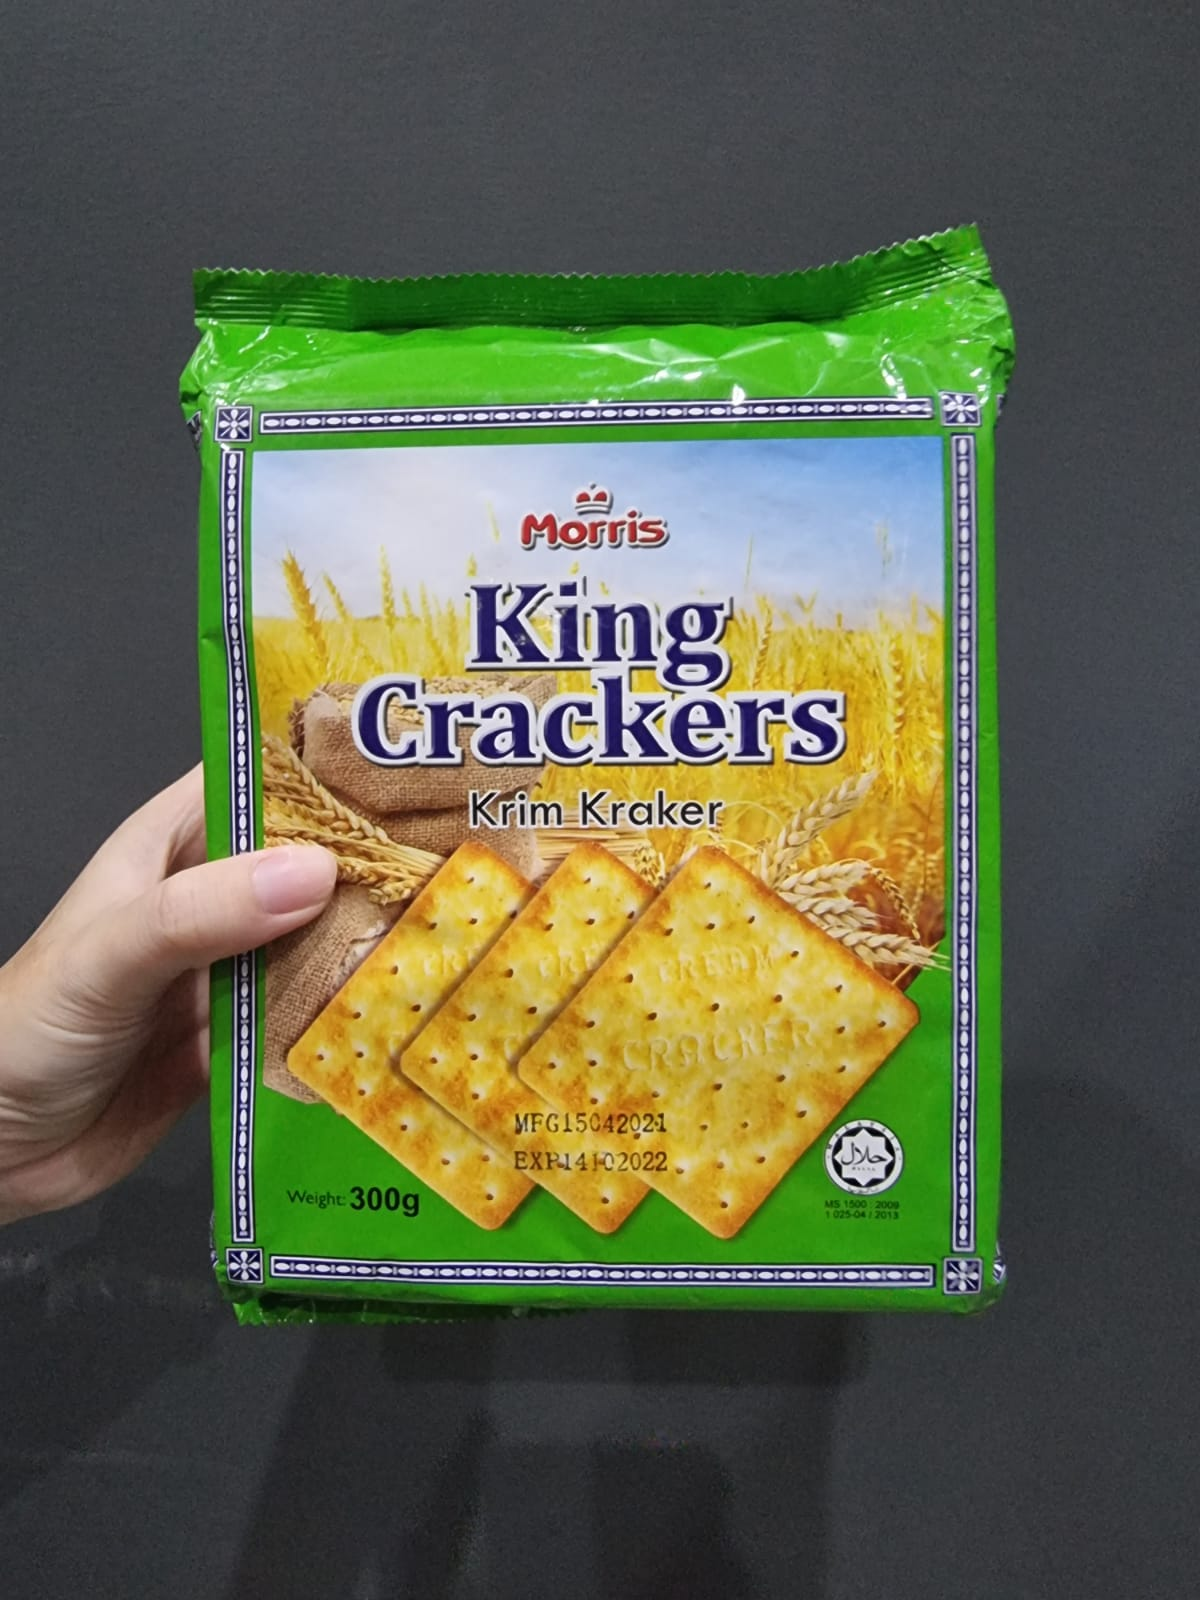Biscuits: (226, 375, 978, 1288)
